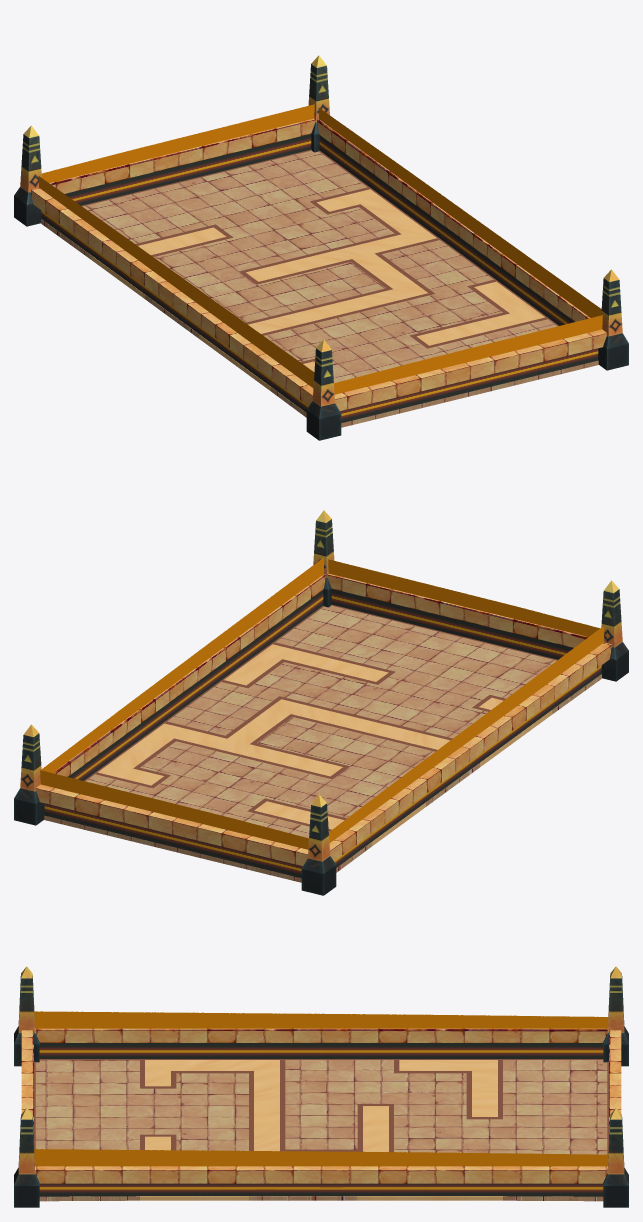
Rendered from Duel_Stage 42.fbx.
3 views of the same model, one above another, from view 1: azimuth 30°, elevation 25°; view 2: azimuth 150°, elevation 25°; view 3: azimuth 270°, elevation 25° (orthographic).
Visible parts, largest first — view 1: Sand_10, CR_Platform_Cube.001, CR_Platform_Cube.004, Plane.111, Cube.095, Plane.110, Sand_10.001; view 2: Sand_10, CR_Platform_Cube.001, CR_Platform_Cube.004, Plane.111, Cube.095, Plane.110, Sand_10.001; view 3: Sand_10, CR_Platform_Cube.001, Plane.111, Cube.095, Sand_10.001, CR_Platform_Cube.004.
Part boxes in pixels (x1=…): Sand_10: x1=41, y1=150, x2=598, y2=427; CR_Platform_Cube.001: x1=31, y1=119, x2=589, y2=412; CR_Platform_Cube.004: x1=49, y1=118, x2=607, y2=423; Plane.111: x1=38, y1=108, x2=601, y2=388; Cube.095: x1=14, y1=55, x2=628, y2=440; Plane.110: x1=41, y1=104, x2=602, y2=394; Sand_10.001: x1=42, y1=149, x2=558, y2=411; Sand_10: x1=44, y1=605, x2=601, y2=882; CR_Platform_Cube.001: x1=53, y1=574, x2=611, y2=867; CR_Platform_Cube.004: x1=35, y1=573, x2=588, y2=878; Plane.111: x1=41, y1=557, x2=604, y2=843; Cube.095: x1=14, y1=510, x2=628, y2=895; Plane.110: x1=40, y1=559, x2=599, y2=849; Sand_10.001: x1=84, y1=604, x2=600, y2=866; Sand_10: x1=35, y1=1060, x2=607, y2=1201; CR_Platform_Cube.001: x1=35, y1=1028, x2=607, y2=1196; Plane.111: x1=34, y1=1011, x2=608, y2=1166; Cube.095: x1=14, y1=966, x2=628, y2=1207; Sand_10.001: x1=34, y1=1059, x2=608, y2=1154; CR_Platform_Cube.004: x1=21, y1=1030, x2=621, y2=1138.
Size of the model in its own units: 2975 by 1262 by 5079.
